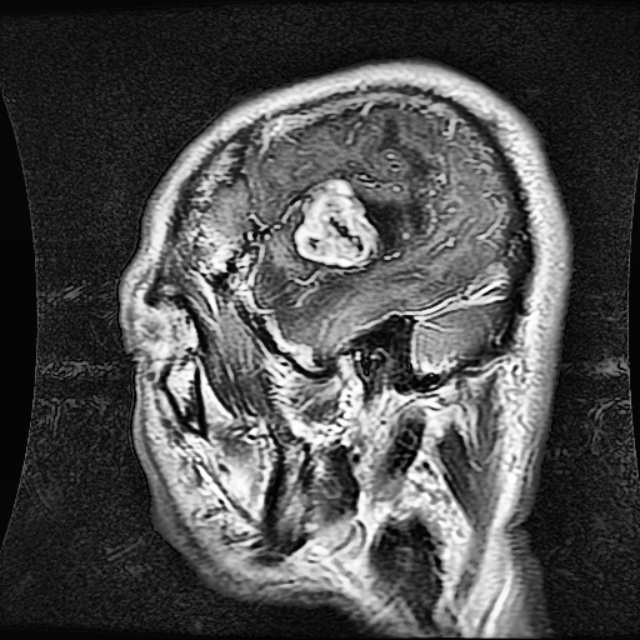Meningioma: (298, 178, 377, 263)
